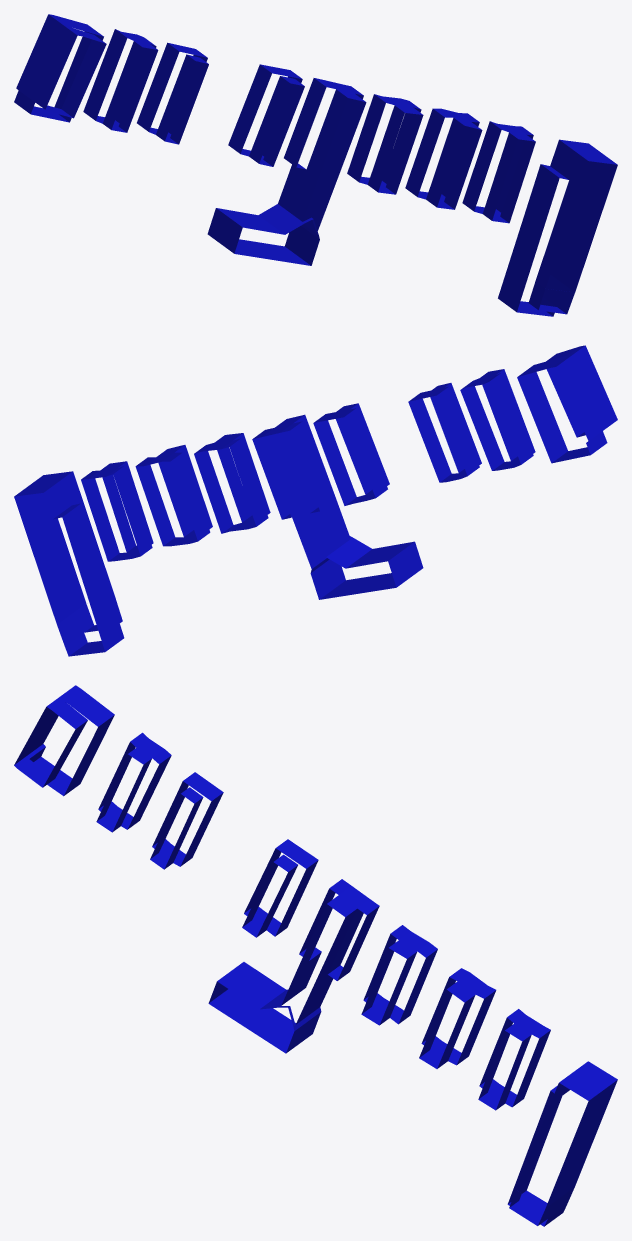
Rendered from Wall_Hini_0.0_Slope_2.0.obj.
3 views of the same model, one above another, from view 1: azimuth 30°, elevation 25°; view 2: azimuth 150°, elevation 25°; view 3: azimuth 330°, elevation 25° (orthographic).
Visible parts, largest first — view 1: 1, 5, 9, 4, 3, 2, 6, 8, 7; view 2: 5, 1, 9, 4, 3, 2, 6, 8, 7; view 3: 5, 1, 9, 4, 3, 2, 6, 8, 7.
Part boxes in pixels (left/top/right/bottom): 1: left=498, top=139, right=617, bottom=316; 5: left=207, top=78, right=366, bottom=265; 9: left=14, top=14, right=106, bottom=122; 4: left=405, top=108, right=482, bottom=209; 3: left=347, top=94, right=423, bottom=194; 2: left=462, top=121, right=535, bottom=223; 6: left=228, top=64, right=304, bottom=166; 8: left=83, top=29, right=158, bottom=132; 7: left=137, top=42, right=208, bottom=144; 5: left=252, top=414, right=423, bottom=599; 1: left=14, top=471, right=124, bottom=656; 9: left=517, top=345, right=617, bottom=463; 4: left=135, top=445, right=212, bottom=546; 3: left=194, top=433, right=270, bottom=533; 2: left=81, top=461, right=153, bottom=561; 6: left=313, top=403, right=389, bottom=505; 8: left=460, top=369, right=535, bottom=470; 7: left=408, top=383, right=481, bottom=482; 5: left=208, top=879, right=379, bottom=1053; 1: left=507, top=1061, right=617, bottom=1226; 9: left=14, top=685, right=114, bottom=796; 4: left=419, top=968, right=496, bottom=1068; 3: left=361, top=925, right=437, bottom=1025; 2: left=478, top=1009, right=550, bottom=1110; 6: left=242, top=839, right=318, bottom=937; 8: left=96, top=732, right=171, bottom=832; 7: left=150, top=772, right=223, bottom=869.
Bounding box in the file's own units: 136 × 92 × 12.
